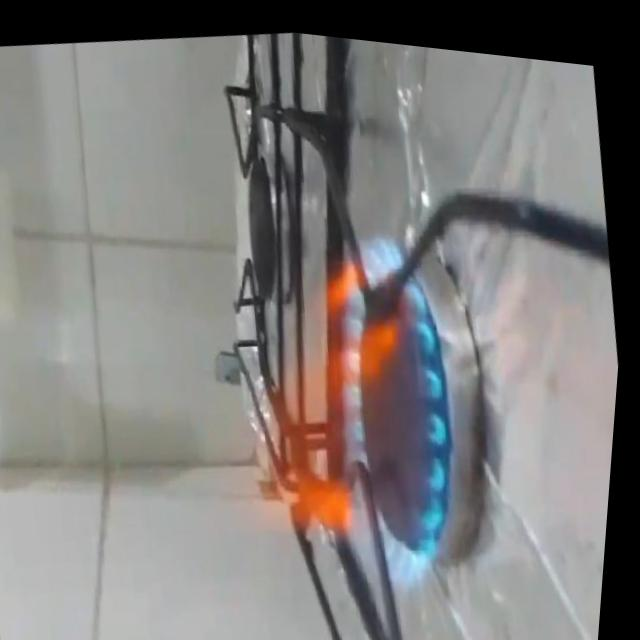Fire: (201, 200, 498, 621)
